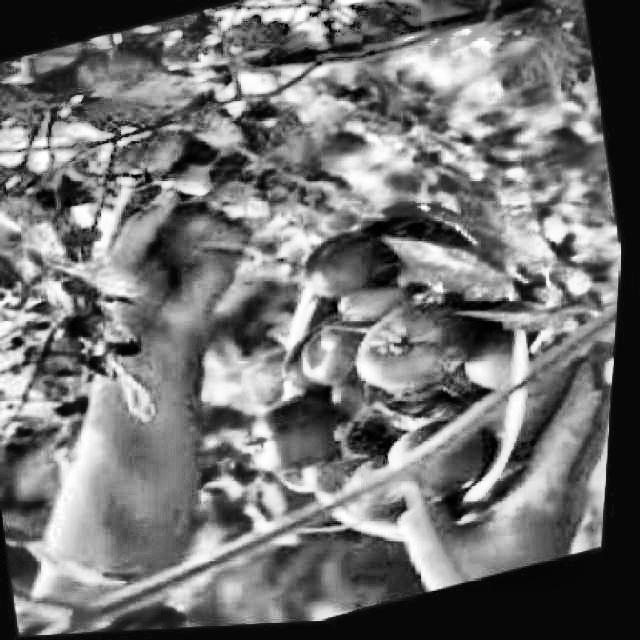plants: (0, 0, 606, 317), (374, 134, 630, 400)
